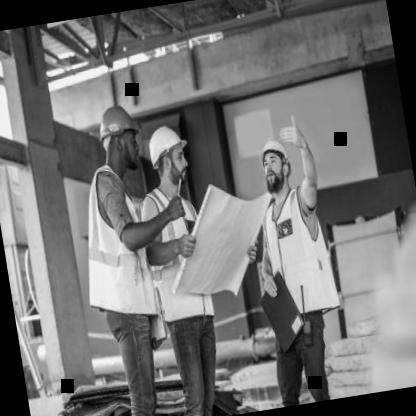helmet: (90, 95, 146, 180), (140, 116, 194, 192), (254, 128, 296, 192)
